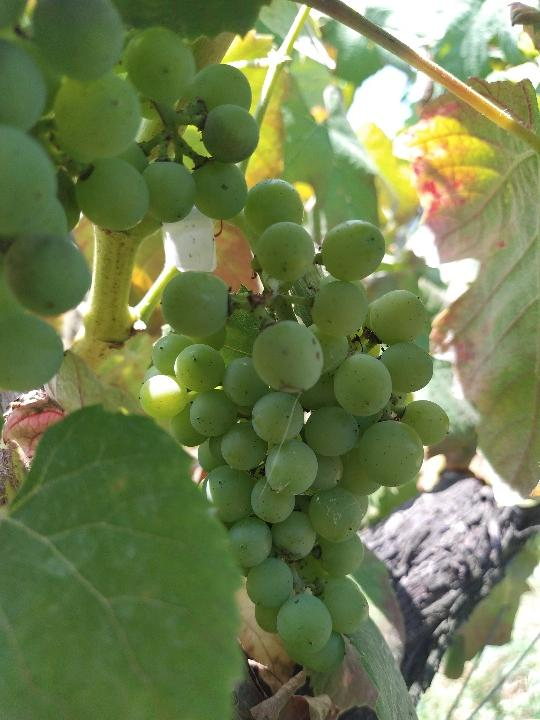grape: (135, 178, 452, 683)
